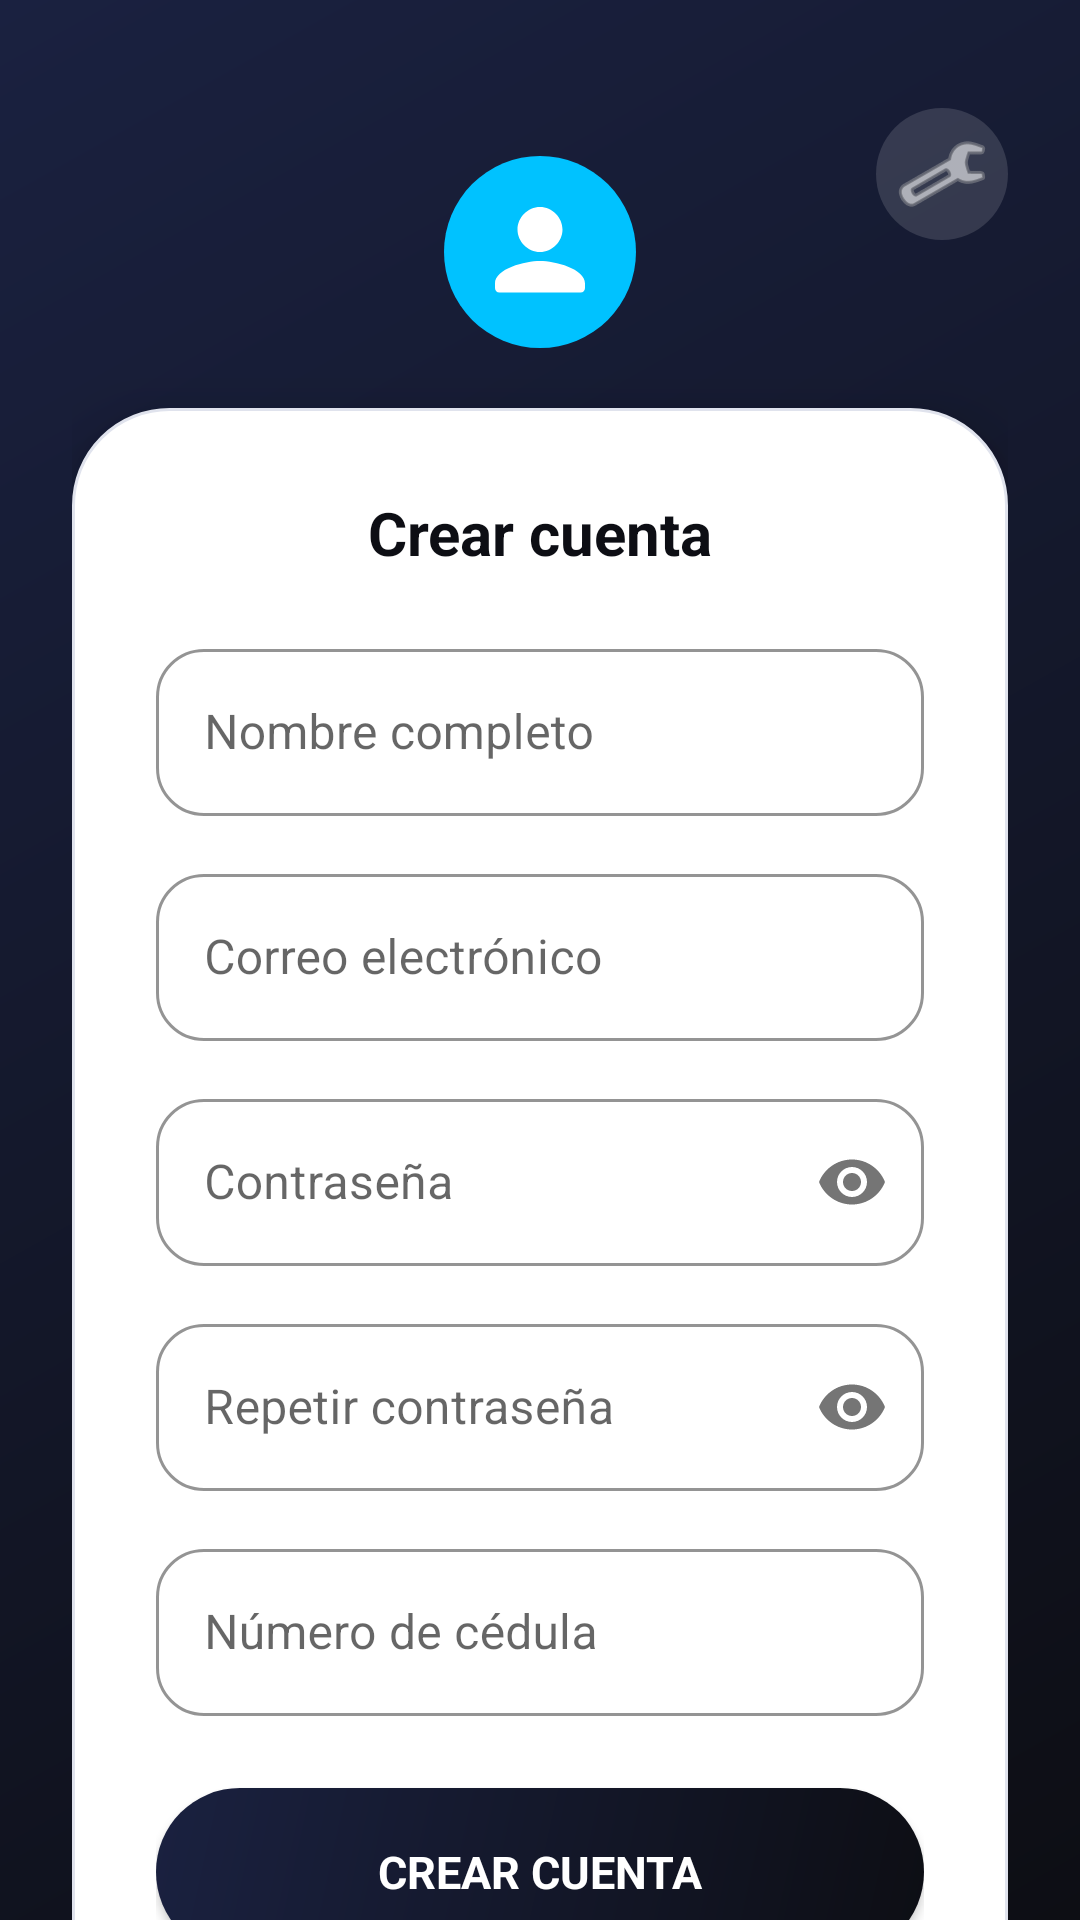

Screen size 1080×1920. Icon name, then its center in pixels as [x,y]:
person: [540,252]
